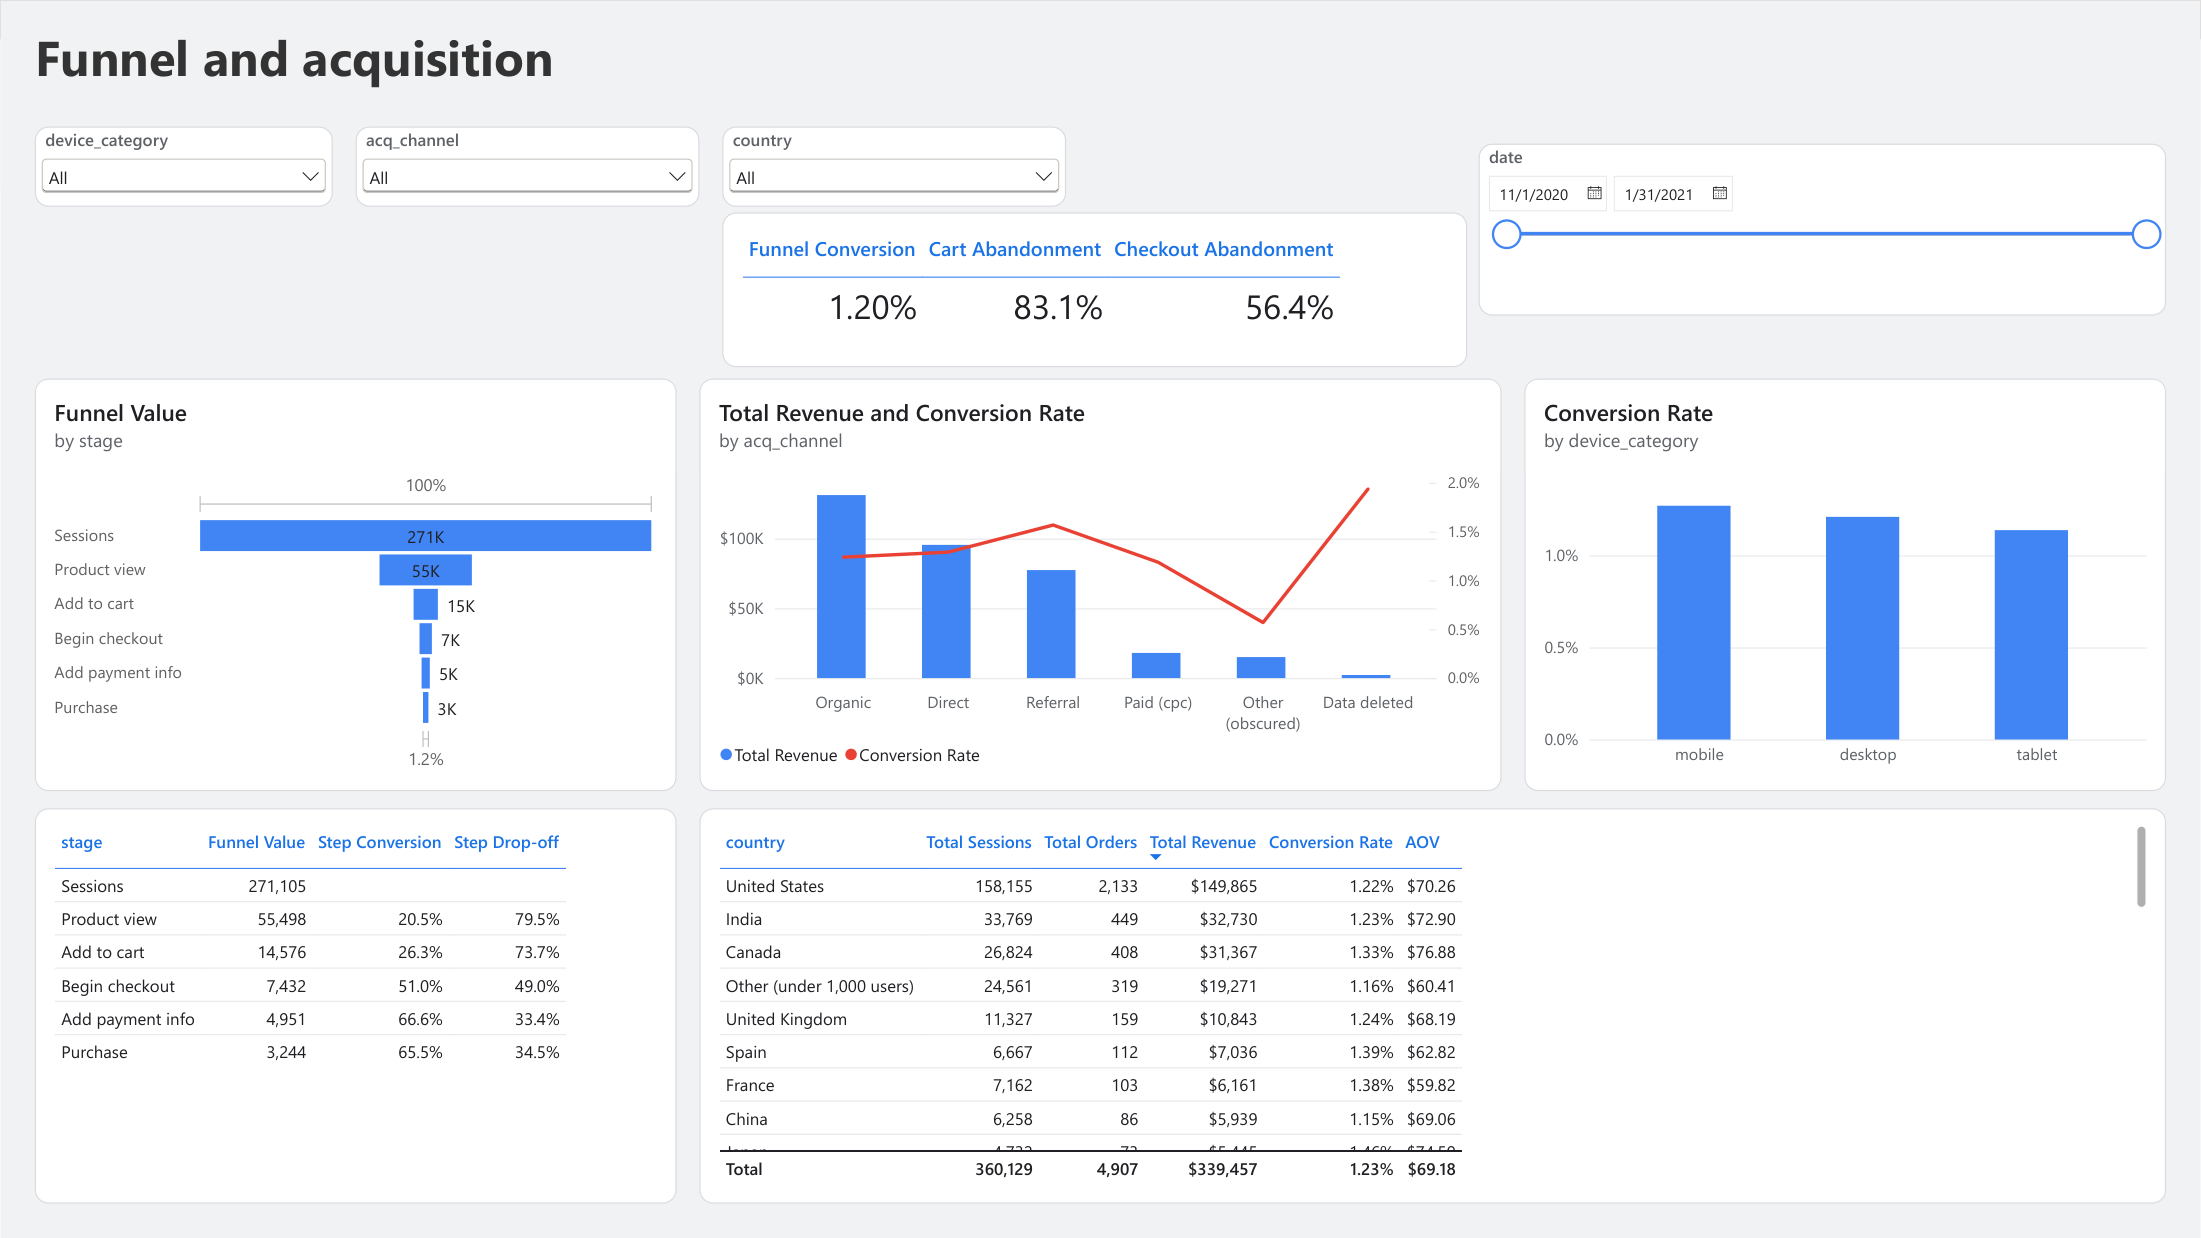

The dashboard page shown, as its layout file describes it:
{"tool":"powerbi","page":{"name":"Page 2","canvas":[1920,1080],"ordinal":1},"visuals":[{"type":"textbox","box":[30,20,900,70],"z":0},{"type":"slicer","fields":{"Values":["DimDate.date"]},"box":[1290,125,600,150],"z":1},{"type":"slicer","fields":{"Values":["SessionFacts.device_category"]},"box":[30,110,260,70],"z":2},{"type":"slicer","fields":{"Values":["SessionFacts.acq_channel"]},"box":[310,110,300,70],"z":3},{"type":"slicer","fields":{"Values":["SessionFacts.country"]},"box":[630,110,300,70],"z":4},{"type":"tableEx","fields":{"Values":["SessionFacts.Funnel Conversion","SessionFacts.Cart Abandonment","SessionFacts.Checkout Abandonment"]},"box":[630,185,650,135],"z":5},{"type":"funnel","fields":{"Category":["FunnelStages.stage"],"Y":["SessionFacts.Funnel Value"]},"box":[30,330,560,360],"z":6},{"type":"lineStackedColumnComboChart","fields":{"Category":["SessionFacts.acq_channel"],"Y":["SessionFacts.Total Revenue"],"Y2":["SessionFacts.Conversion Rate"]},"box":[610,330,700,360],"z":7},{"type":"clusteredColumnChart","fields":{"Category":["SessionFacts.device_category"],"Y":["SessionFacts.Conversion Rate"]},"box":[1330,330,560,360],"z":8},{"type":"tableEx","fields":{"Values":["FunnelStages.stage","SessionFacts.Funnel Value","SessionFacts.Step Conversion","SessionFacts.Step Drop-off"]},"box":[30,705,560,345],"z":9},{"type":"tableEx","fields":{"Values":["SessionFacts.country","SessionFacts.Total Sessions","SessionFacts.Total Orders","SessionFacts.Total Revenue","SessionFacts.Conversion Rate","SessionFacts.AOV"]},"box":[610,705,1280,345],"z":10}]}

Visuals, with their boxes in screenshot pixels (x1, y1, x2, y2), scaled from the page's 1920x1080 canvas onto the 2201x1238 screenshot:
textbox: bbox=(34, 23, 1066, 103)
slicer - DimDate.date: bbox=(1479, 143, 2167, 315)
slicer - SessionFacts.device_category: bbox=(34, 126, 332, 206)
slicer - SessionFacts.acq_channel: bbox=(355, 126, 699, 206)
slicer - SessionFacts.country: bbox=(722, 126, 1066, 206)
tableEx - SessionFacts.Funnel Conversion x SessionFacts.Cart Abandonment: bbox=(722, 212, 1467, 367)
funnel - FunnelStages.stage x SessionFacts.Funnel Value: bbox=(34, 378, 676, 791)
lineStackedColumnComboChart - SessionFacts.acq_channel x SessionFacts.Total Revenue: bbox=(699, 378, 1502, 791)
clusteredColumnChart - SessionFacts.device_category x SessionFacts.Conversion Rate: bbox=(1525, 378, 2167, 791)
tableEx - FunnelStages.stage x SessionFacts.Funnel Value: bbox=(34, 808, 676, 1204)
tableEx - SessionFacts.country x SessionFacts.Total Sessions: bbox=(699, 808, 2167, 1204)
